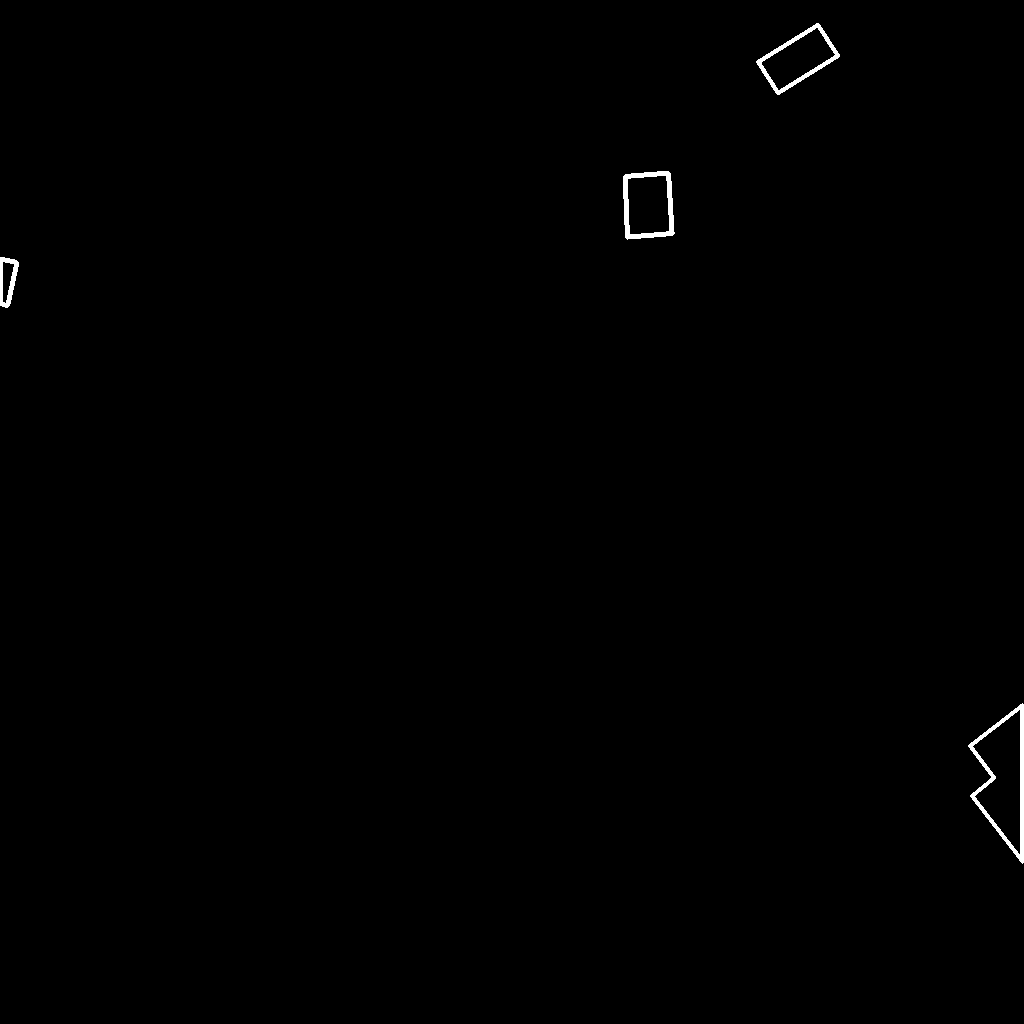building: (970, 705, 1024, 863), (758, 25, 839, 94), (625, 173, 673, 238), (0, 259, 18, 307)
